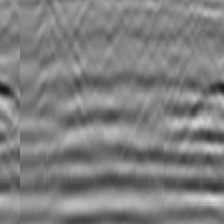Utility: (184, 81, 224, 120)
